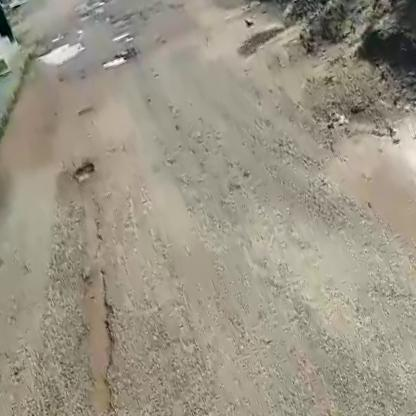pothole: (32, 34, 88, 73), (97, 47, 134, 73), (72, 159, 99, 183)
